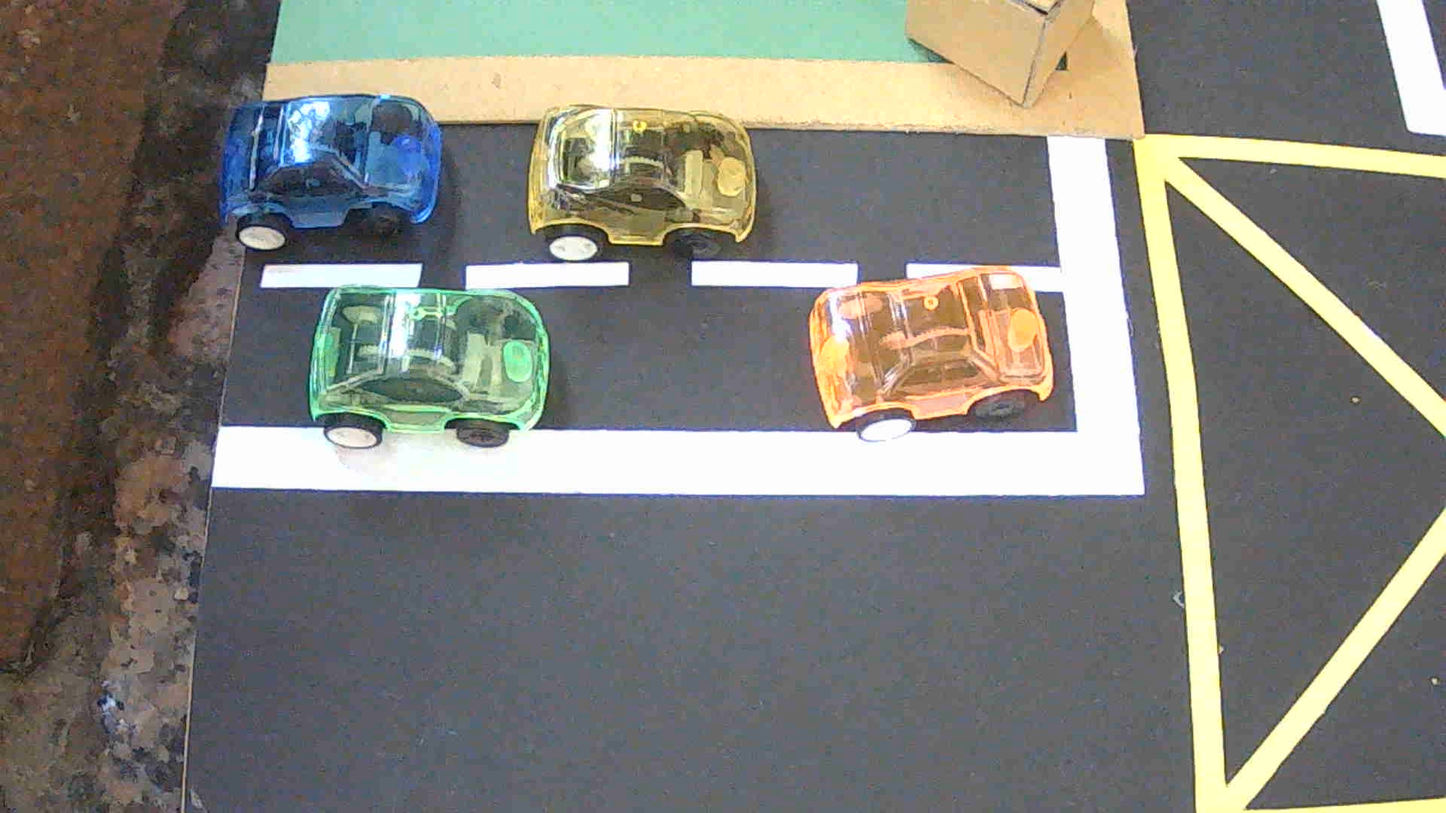Mobil biru: (218, 94, 441, 250)
Mobil hijau: (307, 286, 549, 449)
Mobil kuning: (527, 105, 757, 260)
Mobil orange: (809, 266, 1053, 441)
